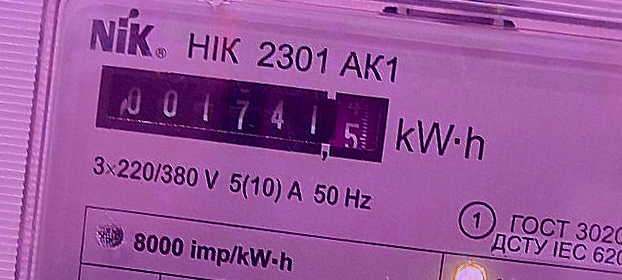0: (159, 85, 182, 121), (123, 83, 146, 118)
1: (195, 88, 216, 126), (304, 102, 323, 139)
4: (266, 96, 291, 133), (345, 98, 363, 118)
5: (339, 118, 363, 151)
7: (230, 96, 252, 133)
screen: (87, 53, 399, 174)
